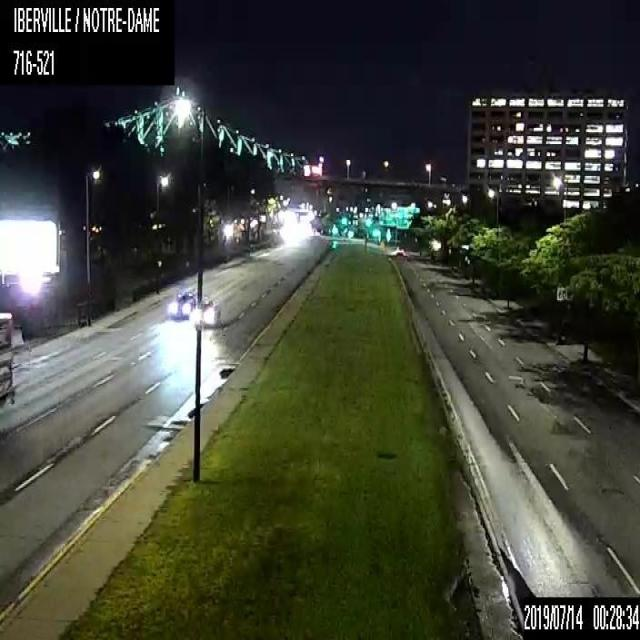vehicle: (0, 308, 14, 416), (166, 290, 198, 322), (193, 296, 217, 327), (394, 244, 406, 256)
